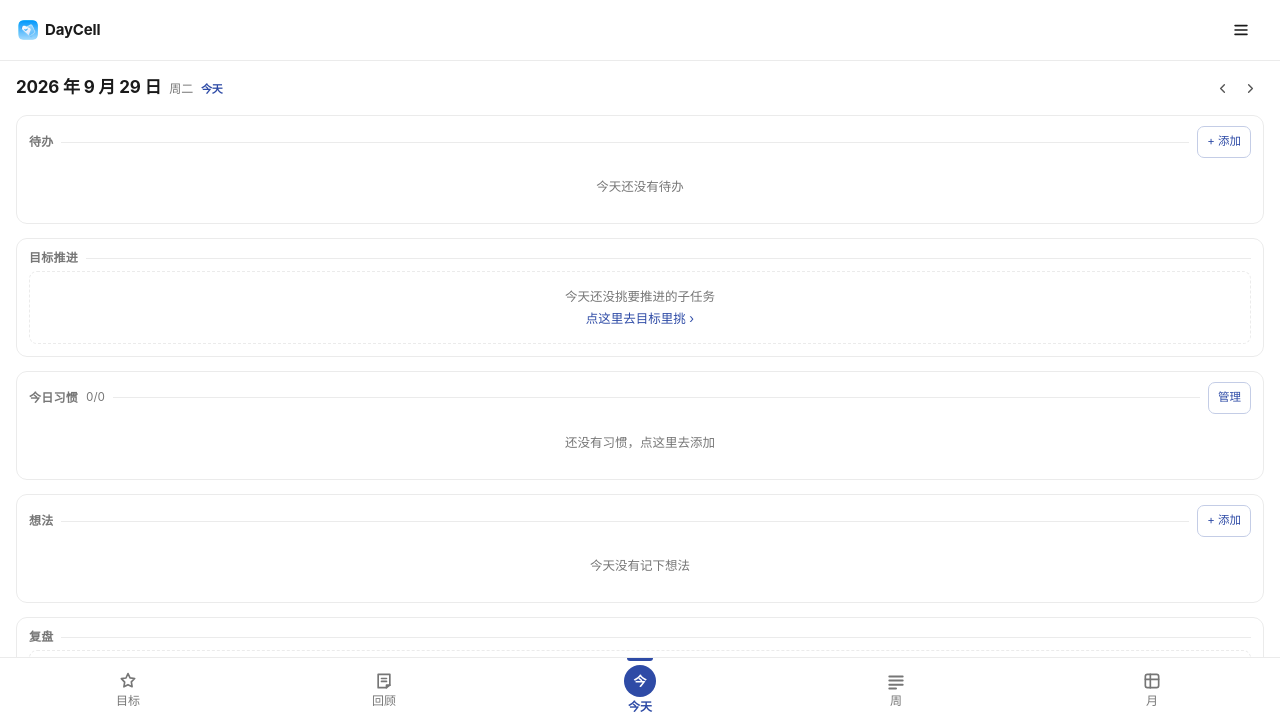
App 冒烟 › v7.5 特殊日设置：从菜单进入、新增每周特殊日、列表显示
Click the button named "菜单" at (1241, 30), box [1220,12,1262,48]
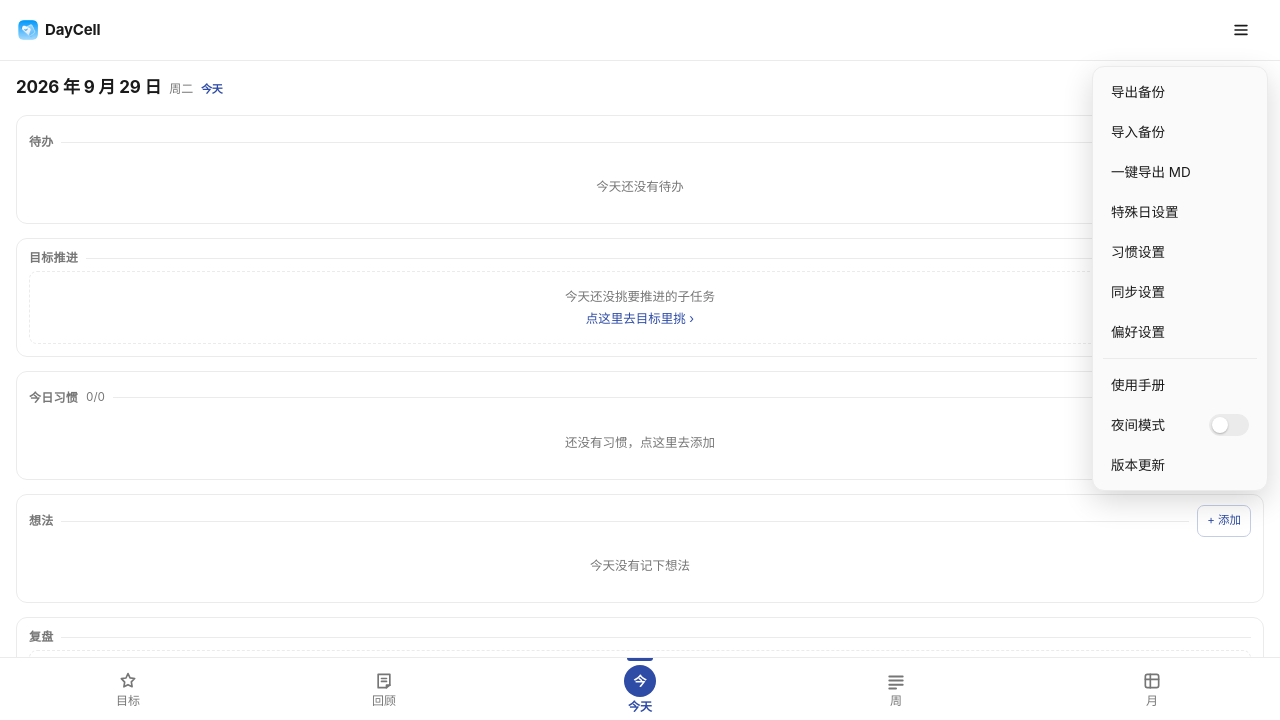
Click the menu item "特殊日设置" at (1180, 212), box [1099,193,1261,231]
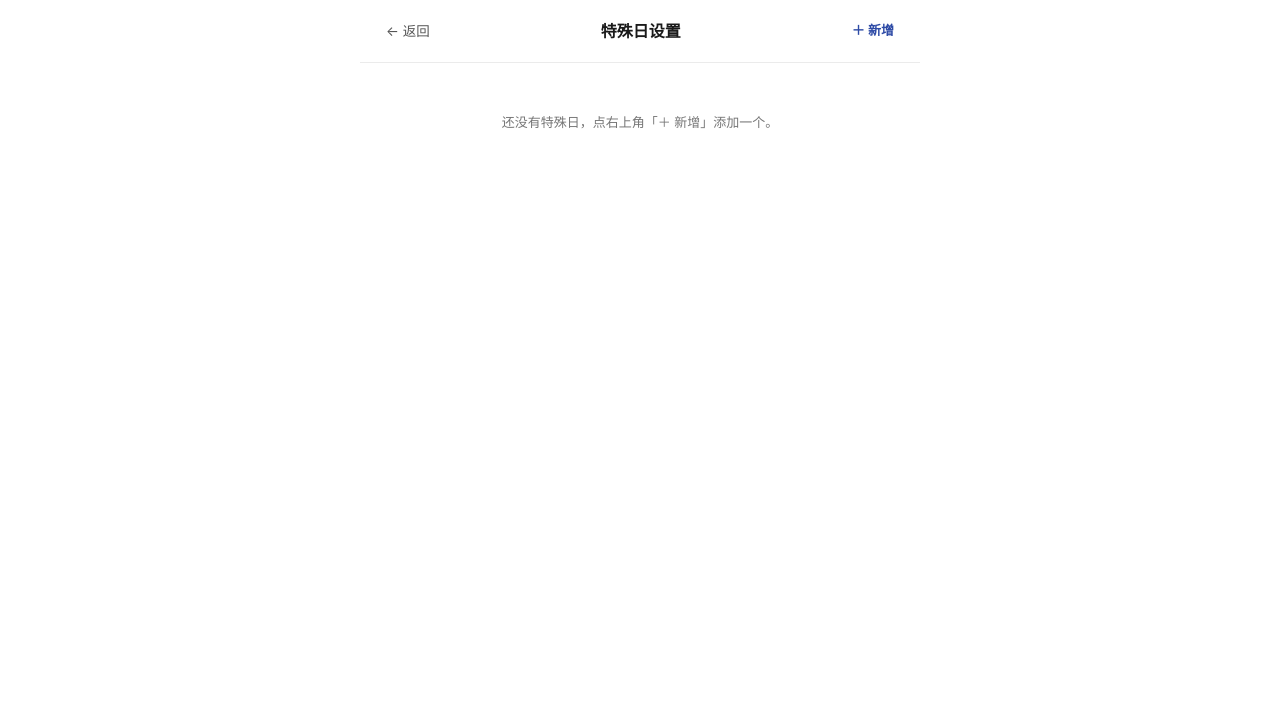
expect the dialog "特殊日设置" is shown: met
Click the button "＋ 新增" at (873, 31), box [842,14,904,48]
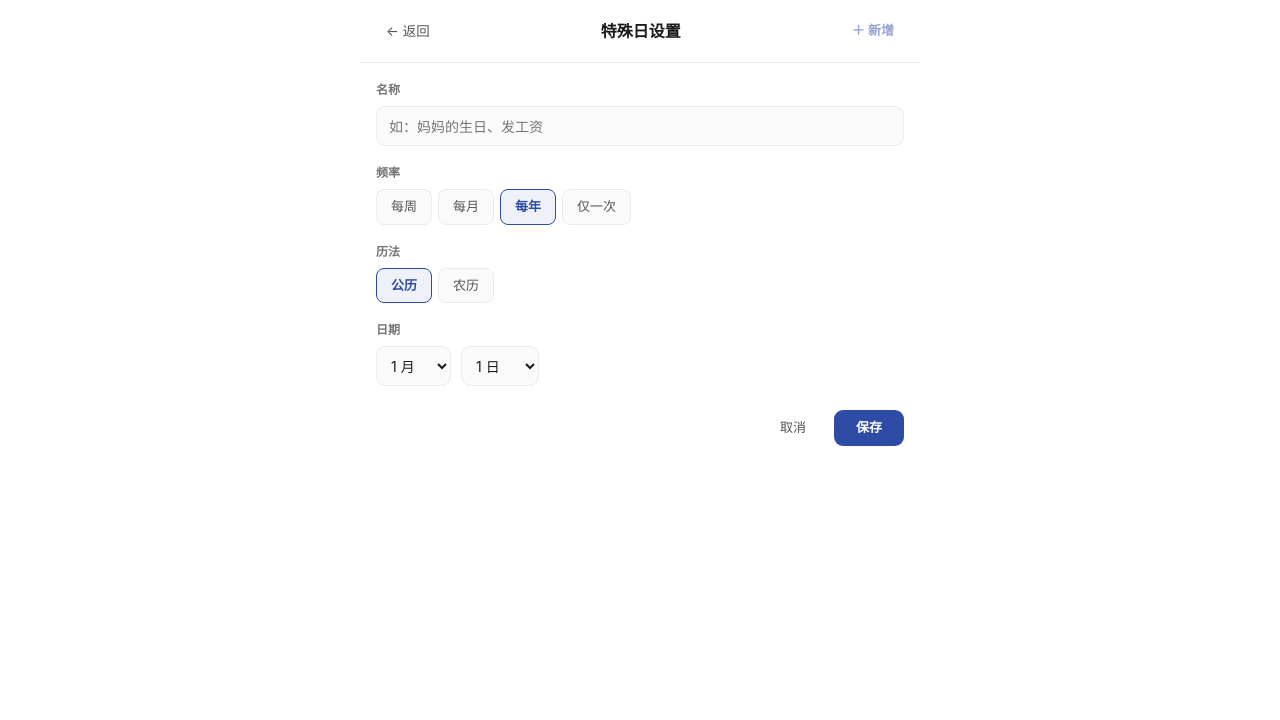
填名字、切每周、选周三
Type "每周例会" into the field with placeholder "如：妈妈的生日、发工资" at (640, 126), box [376,106,904,146]
Click the button "每周" at (404, 207), box [376,189,432,224]
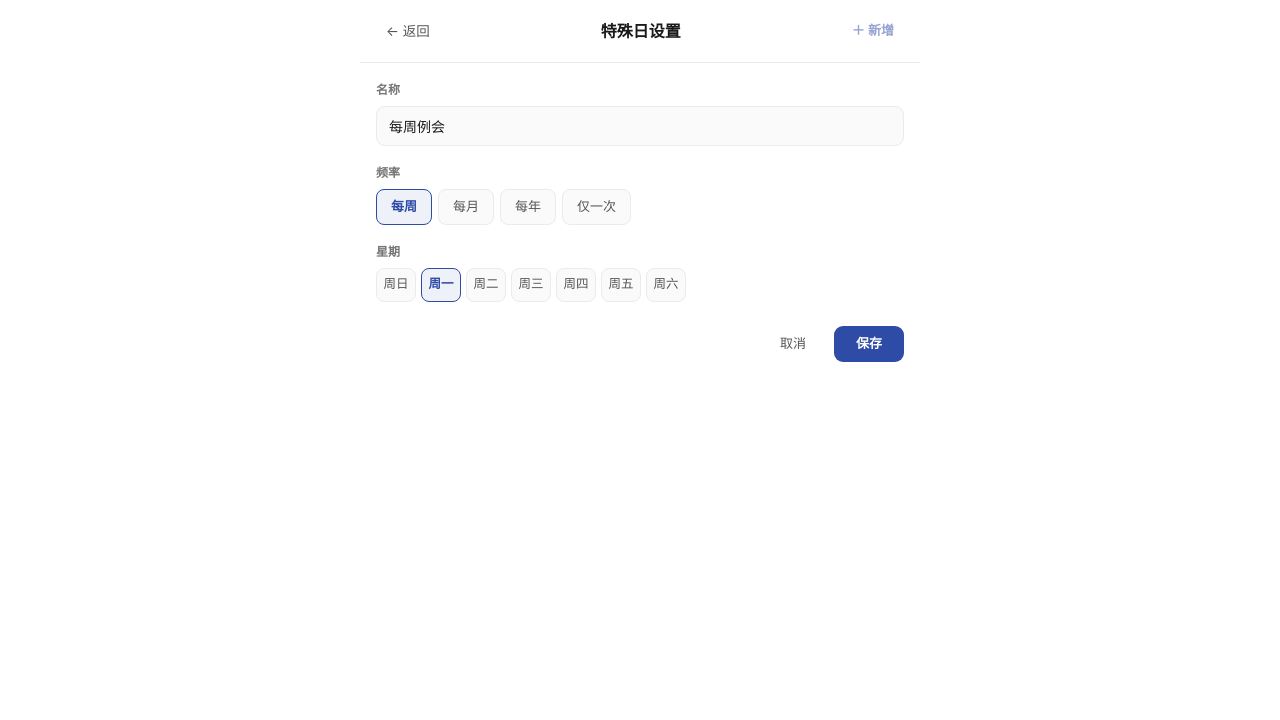
Click the button "周三" at (531, 284), box [511,268,551,302]
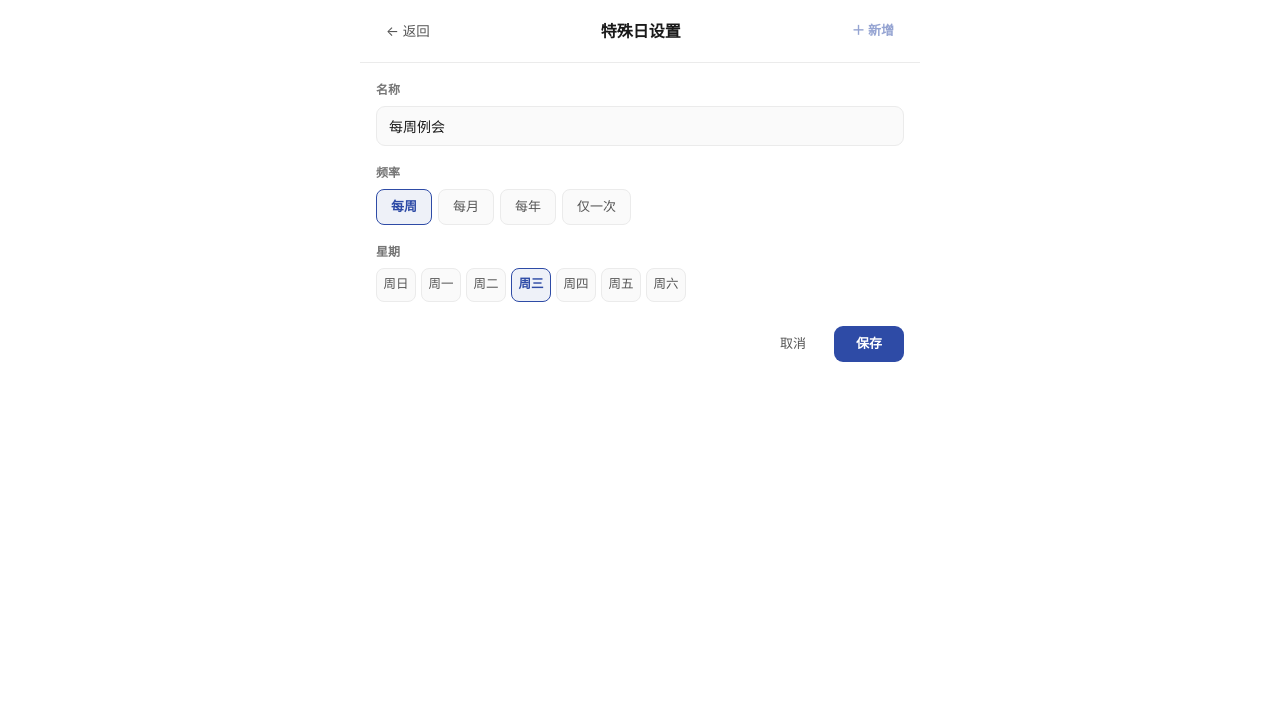
Click the button "保存" at (869, 344), box [834,326,904,362]
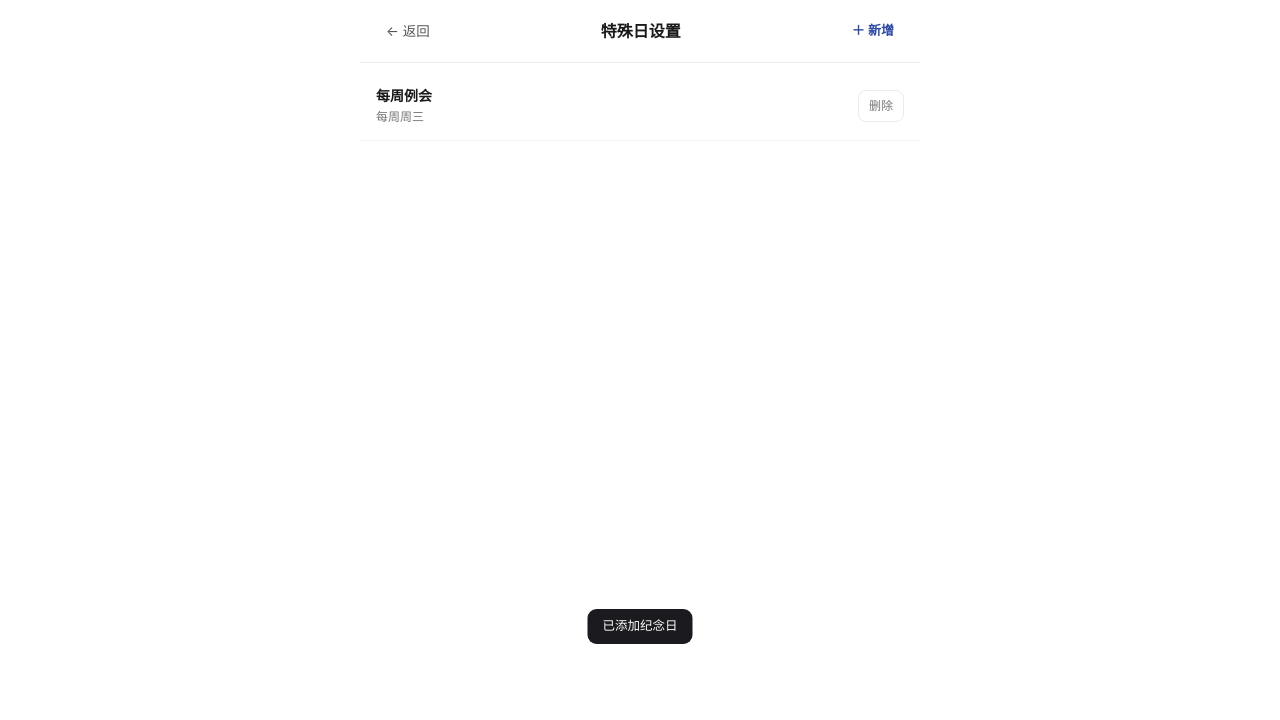
expect the text "每周例会" is shown: met, box [376,85,432,106]
expect the text "每周周三" is shown: met, box [376,108,424,126]
